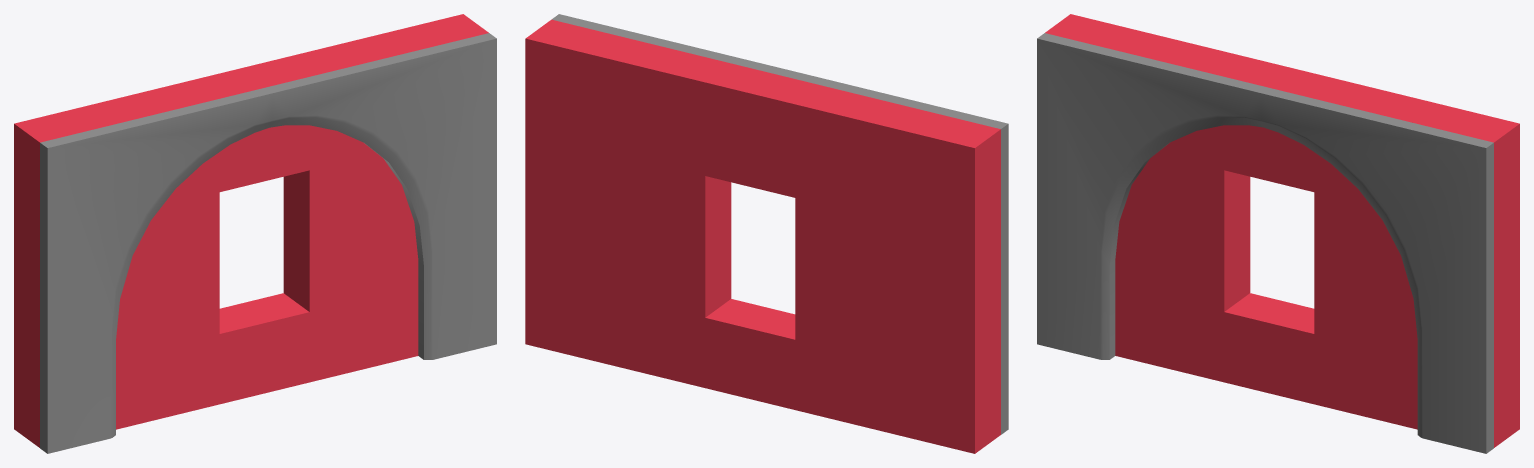
The model's file is doorway_Large_B.fbx.
3 renders of one model, left to right at view 1: azimuth 30°, elevation 25°; view 2: azimuth 150°, elevation 25°; view 3: azimuth 330°, elevation 25°, orthographic.
Visible parts, largest first — view 1: doorway_Large_B; view 2: doorway_Large_B; view 3: doorway_Large_B.
Boxes of the visible parts, x1,y1,x2,y2 form: doorway_Large_B: (14, 14, 496, 453); doorway_Large_B: (525, 14, 1008, 453); doorway_Large_B: (1037, 14, 1519, 453).
Bounding box in the file's own units: 999 × 650 × 129.
